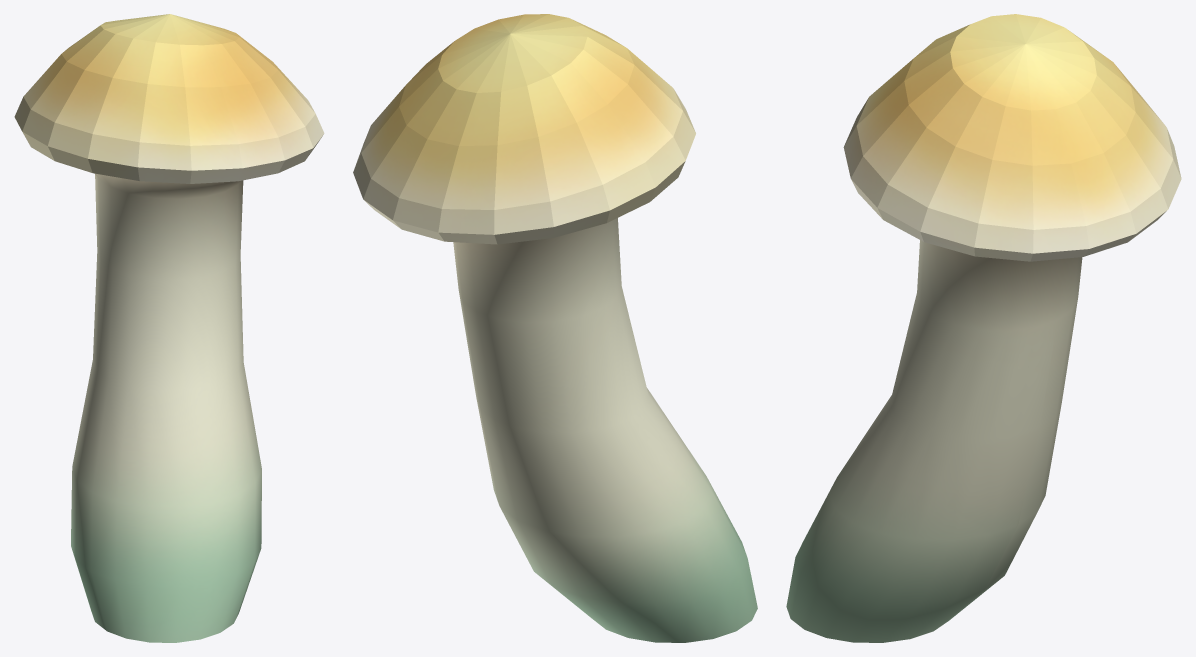
File: Mushroom_3.FBX
The picture shows the model from 3 angles, left to right: view 1: azimuth 30°, elevation 25°; view 2: azimuth 150°, elevation 25°; view 3: azimuth 270°, elevation 25°; orthographic projection. The views are drawn at different scales.
Visible parts, largest first — view 1: Cylinder004; view 2: Cylinder004; view 3: Cylinder004.
Part boxes in pixels (x1,y1,x2,y2): Cylinder004: (14, 14, 324, 642); Cylinder004: (353, 14, 757, 642); Cylinder004: (786, 14, 1181, 642).
Size of the model in its own units: 4.94 by 9.51 by 5.64.
